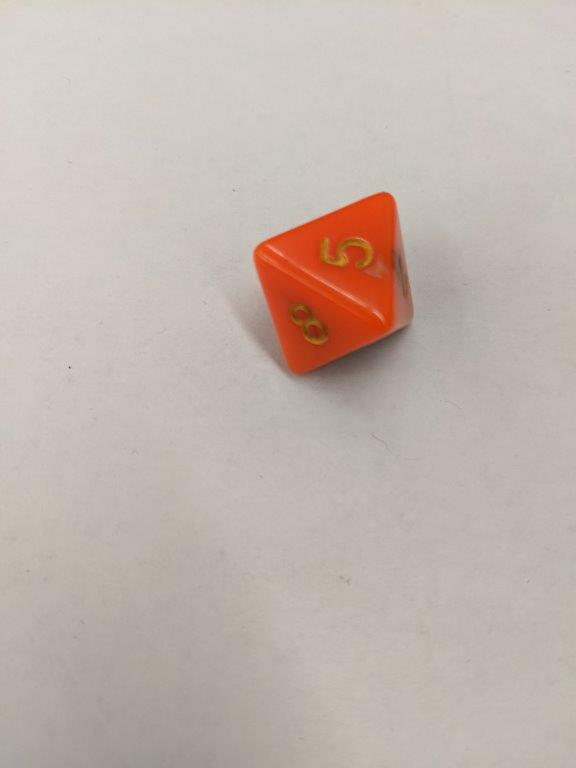d8-5: (254, 191, 418, 379)
